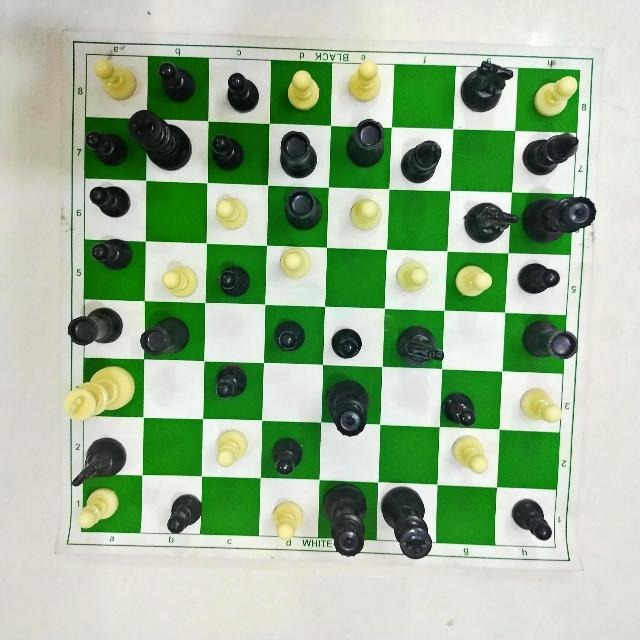black-bishop: (514, 132, 582, 181), (398, 136, 446, 186)
black-king: (377, 481, 443, 565), (125, 109, 198, 170)
black-knight: (455, 54, 513, 118), (71, 436, 135, 490), (391, 319, 449, 371), (462, 197, 520, 247)
black-pawn: (161, 485, 208, 539), (155, 58, 203, 108), (509, 495, 555, 547), (515, 258, 566, 302), (83, 124, 135, 166), (85, 179, 136, 220), (225, 64, 261, 116), (210, 361, 253, 403), (88, 235, 133, 275), (272, 313, 312, 358), (269, 429, 305, 479), (441, 385, 479, 427), (211, 134, 248, 174), (216, 264, 255, 301), (331, 323, 363, 359)
black-queen: (520, 191, 601, 245), (320, 479, 372, 556), (322, 378, 372, 441)
black-rook: (521, 312, 583, 366), (342, 112, 387, 172), (61, 303, 122, 347), (137, 314, 193, 356), (275, 125, 317, 180), (279, 187, 325, 231)
white-king: (60, 363, 138, 427)
white-pawn: (72, 484, 124, 531), (279, 68, 329, 116), (527, 74, 579, 120), (519, 378, 561, 431), (89, 60, 139, 102), (269, 489, 305, 544), (448, 431, 490, 477), (453, 260, 497, 303), (343, 61, 383, 105), (216, 420, 250, 470), (159, 260, 199, 302), (346, 192, 382, 236), (218, 189, 252, 233), (274, 244, 313, 281), (394, 257, 430, 297)
